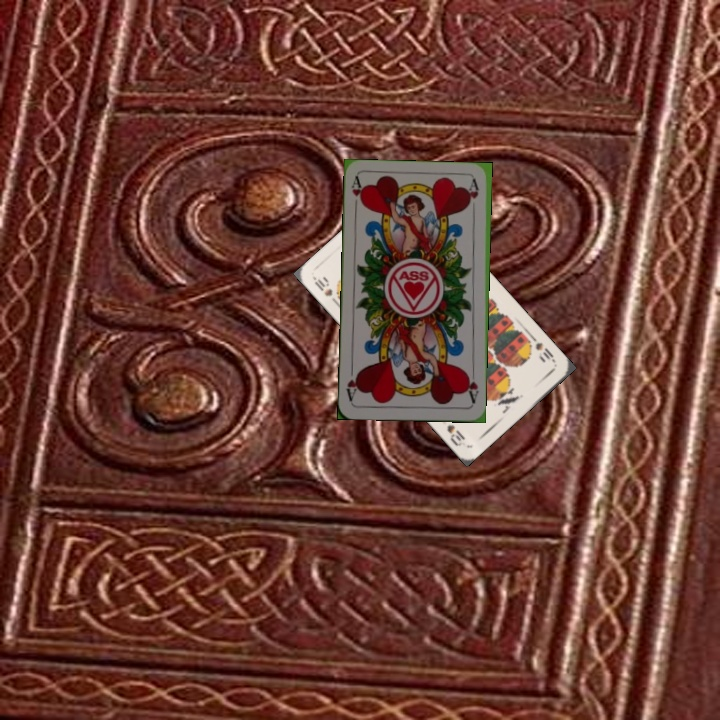HA: (462, 366, 481, 406), (347, 174, 366, 214)
S10: (310, 273, 341, 308), (531, 338, 558, 366)
